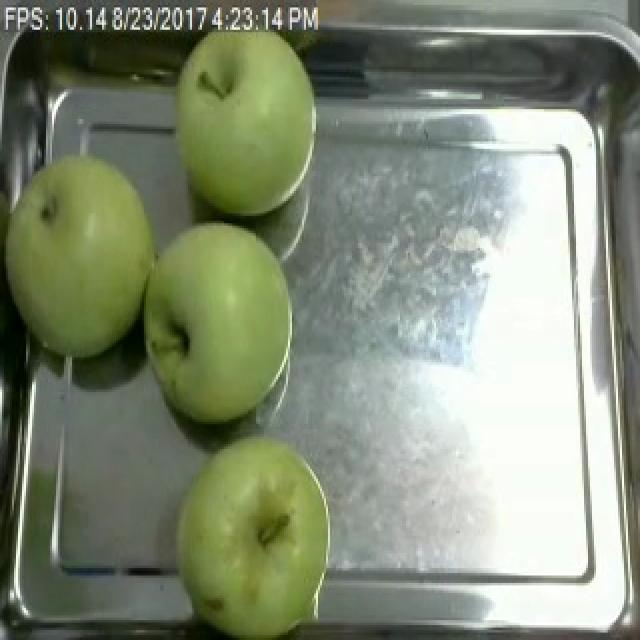50-_ripeness: (162, 12, 342, 234), (141, 217, 314, 431), (4, 144, 153, 377), (172, 442, 345, 640)
